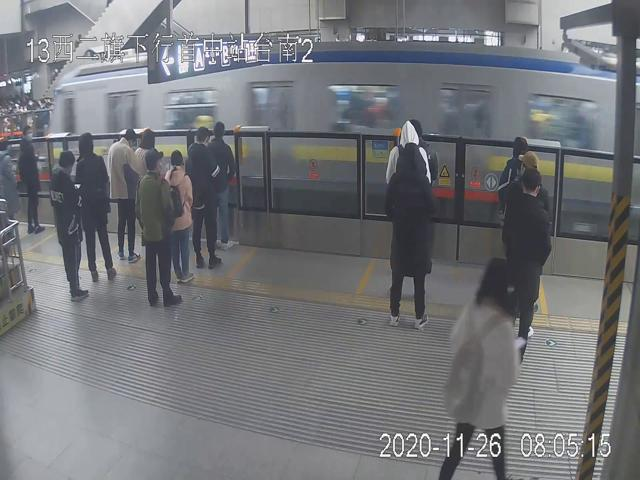person: (502, 168, 551, 370), (386, 142, 434, 330), (134, 148, 182, 305), (74, 131, 119, 284), (45, 149, 89, 300), (186, 126, 222, 268), (108, 128, 141, 264), (166, 148, 196, 283), (209, 122, 236, 249), (19, 125, 44, 233)
